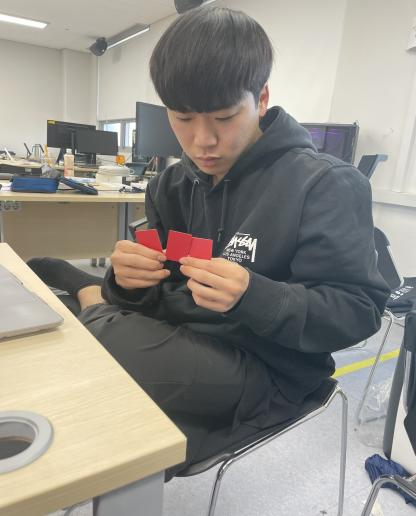ThreeHwatoo: (128, 214, 226, 266)
